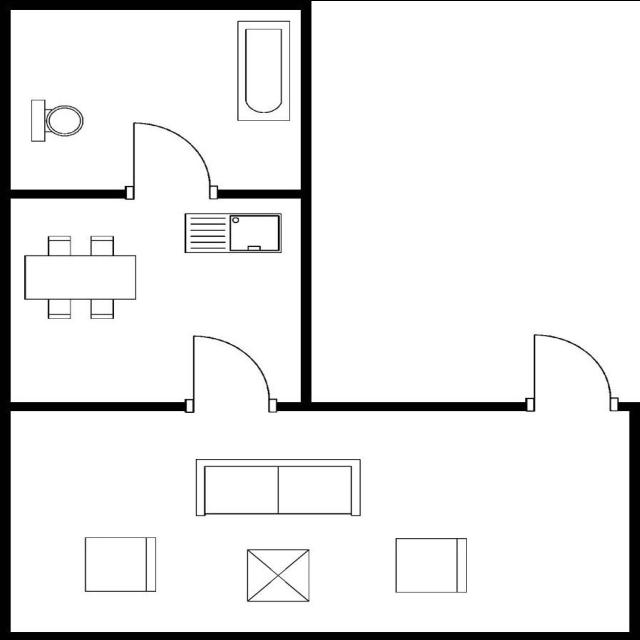coffee_table: (242, 546, 314, 605)
dining_table: (19, 231, 141, 320)
large_sofa: (192, 456, 366, 520)
sink: (180, 210, 288, 256), (27, 96, 86, 144)
small_sofa: (80, 533, 162, 595), (391, 534, 469, 596)
tub: (232, 15, 294, 124)
